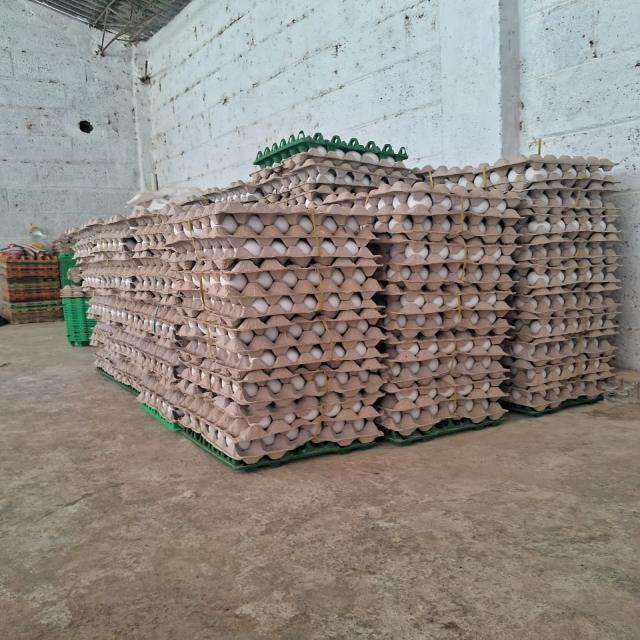egg_tray: (181, 310, 381, 403), (178, 362, 381, 452), (79, 208, 175, 388), (167, 237, 379, 318), (181, 310, 381, 393), (381, 310, 507, 434), (374, 192, 518, 288), (179, 311, 380, 378), (177, 396, 379, 462), (327, 182, 519, 244), (384, 294, 509, 388), (177, 310, 382, 367), (175, 408, 381, 464), (180, 316, 381, 372), (176, 358, 381, 412), (512, 188, 617, 290), (381, 338, 505, 424), (179, 308, 380, 359), (177, 358, 382, 408), (176, 382, 381, 432), (179, 358, 381, 408), (177, 383, 381, 432), (503, 298, 614, 386), (161, 203, 372, 248), (183, 392, 377, 440), (381, 244, 513, 313), (182, 258, 379, 304), (182, 281, 379, 326), (253, 153, 415, 206), (505, 285, 617, 360), (181, 307, 381, 346), (201, 420, 381, 463), (98, 332, 183, 421), (163, 232, 373, 268), (517, 182, 616, 256), (414, 154, 615, 190), (91, 199, 207, 260), (503, 329, 614, 392), (382, 354, 506, 410), (387, 331, 504, 388), (180, 414, 312, 464), (378, 240, 515, 288), (380, 246, 513, 294), (385, 332, 505, 384), (379, 369, 505, 418), (385, 311, 511, 360), (377, 387, 505, 435), (252, 158, 416, 195), (511, 236, 618, 292), (512, 230, 617, 287), (511, 242, 619, 297), (251, 150, 415, 186), (365, 182, 519, 220), (96, 350, 178, 421), (503, 353, 612, 404), (259, 165, 415, 200), (90, 290, 181, 349), (89, 290, 194, 341), (382, 351, 506, 393), (374, 212, 517, 248), (507, 284, 618, 330), (74, 207, 170, 260), (93, 332, 172, 394), (503, 330, 614, 374), (97, 297, 184, 353), (88, 258, 193, 304), (95, 326, 181, 382), (131, 200, 210, 260), (253, 148, 410, 178), (89, 292, 193, 337), (97, 350, 181, 405), (382, 302, 510, 338), (503, 331, 614, 372), (87, 258, 183, 305), (485, 156, 615, 190), (89, 295, 187, 340), (379, 234, 516, 265), (83, 228, 164, 280), (508, 284, 618, 322), (502, 368, 612, 406), (519, 216, 617, 258), (105, 326, 181, 380), (131, 200, 213, 250), (0, 246, 59, 314), (517, 210, 617, 250), (386, 284, 510, 316), (279, 134, 407, 165), (93, 312, 172, 361), (505, 354, 612, 390), (415, 163, 547, 192), (511, 258, 619, 293), (105, 340, 181, 388), (516, 208, 617, 243), (513, 283, 619, 316), (85, 258, 172, 298), (513, 309, 616, 342), (505, 378, 610, 410), (509, 183, 617, 214), (131, 262, 195, 314), (93, 314, 173, 354), (512, 236, 618, 266), (403, 402, 501, 434), (83, 246, 149, 288), (87, 294, 152, 336), (83, 257, 153, 296), (265, 183, 370, 208), (123, 188, 207, 219), (93, 230, 163, 267), (95, 276, 179, 306), (104, 205, 180, 236), (126, 188, 208, 216), (0, 247, 58, 286), (412, 163, 495, 190), (139, 376, 184, 422), (139, 375, 183, 422), (413, 165, 495, 190), (95, 350, 143, 392), (78, 229, 135, 260), (82, 256, 127, 294), (95, 352, 139, 388), (138, 385, 180, 422), (83, 266, 135, 294), (130, 222, 165, 262), (205, 180, 264, 203), (73, 218, 103, 263), (82, 265, 123, 297), (90, 328, 123, 366), (92, 314, 135, 342), (74, 236, 113, 266), (87, 290, 116, 330), (73, 217, 103, 245), (53, 228, 79, 254), (91, 322, 108, 356), (521, 270, 550, 284), (435, 310, 459, 325), (431, 411, 471, 420), (61, 284, 85, 298), (237, 386, 256, 401), (229, 430, 263, 438), (153, 303, 163, 330), (157, 320, 173, 336), (232, 430, 263, 438), (67, 267, 81, 284), (154, 360, 171, 372), (581, 264, 594, 279), (261, 353, 275, 366), (179, 420, 197, 430), (514, 250, 529, 261), (353, 346, 366, 358), (601, 340, 612, 352), (601, 253, 613, 264), (530, 326, 546, 334), (369, 310, 379, 322), (585, 344, 599, 352), (113, 238, 134, 243), (455, 338, 470, 345), (163, 411, 173, 421), (220, 421, 231, 430), (473, 408, 485, 416), (485, 344, 498, 351), (95, 236, 104, 246), (220, 422, 231, 430), (155, 260, 162, 272), (435, 294, 444, 303), (120, 282, 130, 290), (549, 180, 562, 186), (166, 326, 175, 334), (141, 225, 157, 229), (401, 192, 413, 197), (421, 316, 431, 322), (410, 274, 417, 282), (494, 174, 501, 182), (201, 360, 208, 367), (385, 424, 397, 428), (243, 366, 255, 370), (386, 194, 398, 198), (429, 405, 435, 412), (87, 264, 93, 271), (556, 272, 562, 279), (383, 424, 393, 428), (385, 424, 395, 428), (606, 185, 612, 191), (473, 340, 479, 346), (403, 422, 412, 426), (460, 340, 469, 344), (97, 362, 103, 368), (179, 329, 186, 334), (399, 316, 410, 319), (166, 328, 174, 332), (143, 252, 151, 256), (497, 200, 505, 204), (280, 140, 284, 148), (359, 310, 367, 314), (156, 260, 161, 266), (575, 363, 581, 368), (409, 284, 415, 289), (467, 405, 473, 410), (347, 152, 357, 155), (512, 313, 519, 317), (484, 199, 488, 206), (215, 388, 222, 392), (536, 380, 545, 383), (165, 414, 170, 419), (595, 275, 600, 280), (396, 228, 402, 232), (336, 196, 340, 202), (483, 336, 489, 340), (529, 172, 535, 176), (147, 317, 150, 325), (123, 286, 129, 290), (516, 253, 522, 257), (551, 366, 559, 369), (289, 136, 293, 142), (193, 379, 199, 383), (97, 322, 101, 328), (341, 196, 348, 199), (141, 254, 148, 257), (594, 260, 601, 263), (292, 360, 297, 364), (414, 316, 419, 320), (478, 402, 483, 406), (232, 237, 237, 241), (118, 230, 127, 232), (149, 316, 152, 322), (357, 423, 363, 426), (107, 371, 113, 374), (399, 203, 405, 206), (501, 187, 507, 190), (451, 340, 457, 343), (589, 342, 593, 346), (479, 306, 487, 308), (349, 439, 353, 443), (538, 260, 542, 264), (399, 354, 403, 358), (385, 387, 390, 390), (147, 310, 150, 315), (369, 438, 374, 441), (603, 364, 608, 367), (199, 378, 204, 381), (354, 367, 359, 370), (565, 251, 570, 254), (136, 296, 143, 298), (531, 306, 534, 310), (280, 252, 286, 254), (189, 330, 195, 332), (131, 261, 135, 264), (198, 327, 200, 333), (375, 364, 379, 367), (393, 420, 397, 423), (454, 252, 457, 256), (563, 246, 569, 248), (341, 182, 351, 183), (140, 400, 145, 402), (510, 247, 513, 250), (376, 314, 379, 317), (467, 407, 470, 410), (341, 242, 343, 246), (495, 392, 499, 394), (599, 386, 603, 388), (321, 332, 325, 334), (295, 372, 299, 374), (225, 318, 227, 322), (167, 360, 170, 362), (247, 254, 250, 256), (483, 248, 485, 251), (417, 248, 420, 250), (309, 364, 312, 366), (279, 341, 281, 344), (117, 346, 120, 348), (98, 360, 99, 366), (213, 442, 216, 444), (263, 442, 266, 444), (527, 255, 529, 258), (301, 132, 303, 135), (421, 350, 423, 353), (501, 393, 503, 396), (399, 358, 401, 361), (402, 316, 405, 318), (385, 247, 391, 248), (385, 338, 390, 339), (367, 402, 371, 403), (416, 228, 418, 230), (359, 198, 361, 200), (266, 242, 268, 244), (390, 400, 392, 402), (496, 396, 498, 398), (418, 300, 420, 302), (314, 330, 316, 332), (585, 326, 586, 330), (179, 227, 181, 229), (106, 221, 108, 223), (127, 283, 129, 285), (596, 249, 597, 253), (556, 244, 558, 246), (412, 330, 414, 332), (503, 310, 505, 312), (293, 318, 295, 320), (145, 402, 149, 403), (504, 189, 507, 190), (183, 310, 186, 311), (107, 371, 110, 372), (118, 367, 121, 368), (151, 381, 152, 383), (587, 187, 588, 189), (588, 352, 590, 353), (58, 304, 59, 306), (503, 188, 504, 190), (487, 400, 488, 402), (469, 398, 470, 400), (449, 381, 450, 383), (476, 349, 478, 350), (173, 362, 175, 363), (157, 322, 158, 324), (189, 282, 190, 284), (267, 443, 269, 444), (421, 185, 423, 186), (265, 149, 266, 151), (209, 378, 210, 380), (543, 186, 544, 187), (349, 285, 350, 286), (592, 167, 593, 168), (161, 353, 161, 356), (435, 239, 437, 239), (400, 219, 401, 219), (290, 408, 292, 408), (521, 254, 522, 254), (611, 352, 612, 352), (598, 343, 599, 343), (25, 312, 27, 312), (485, 163, 485, 163), (414, 417, 415, 417), (485, 399, 485, 399), (454, 392, 455, 392), (387, 390, 390, 390), (552, 303, 554, 303), (416, 252, 417, 252), (356, 358, 357, 358), (347, 358, 349, 358), (436, 248, 437, 248), (556, 312, 557, 312), (202, 354, 204, 354), (219, 416, 219, 416), (220, 415, 221, 415), (163, 332, 163, 332), (121, 232, 125, 232), (329, 179, 330, 179), (545, 374, 545, 376), (596, 303, 597, 303), (310, 309, 312, 309), (319, 300, 319, 304), (109, 219, 111, 219), (191, 330, 192, 330), (189, 321, 190, 321), (143, 227, 148, 227), (129, 221, 130, 221), (163, 339, 163, 339), (139, 336, 142, 336), (483, 207, 483, 207), (594, 370, 595, 370), (230, 432, 231, 432), (227, 387, 227, 388), (381, 409, 381, 409), (396, 247, 397, 247), (116, 377, 117, 377), (416, 396, 417, 396), (465, 392, 466, 392), (96, 297, 97, 297)
